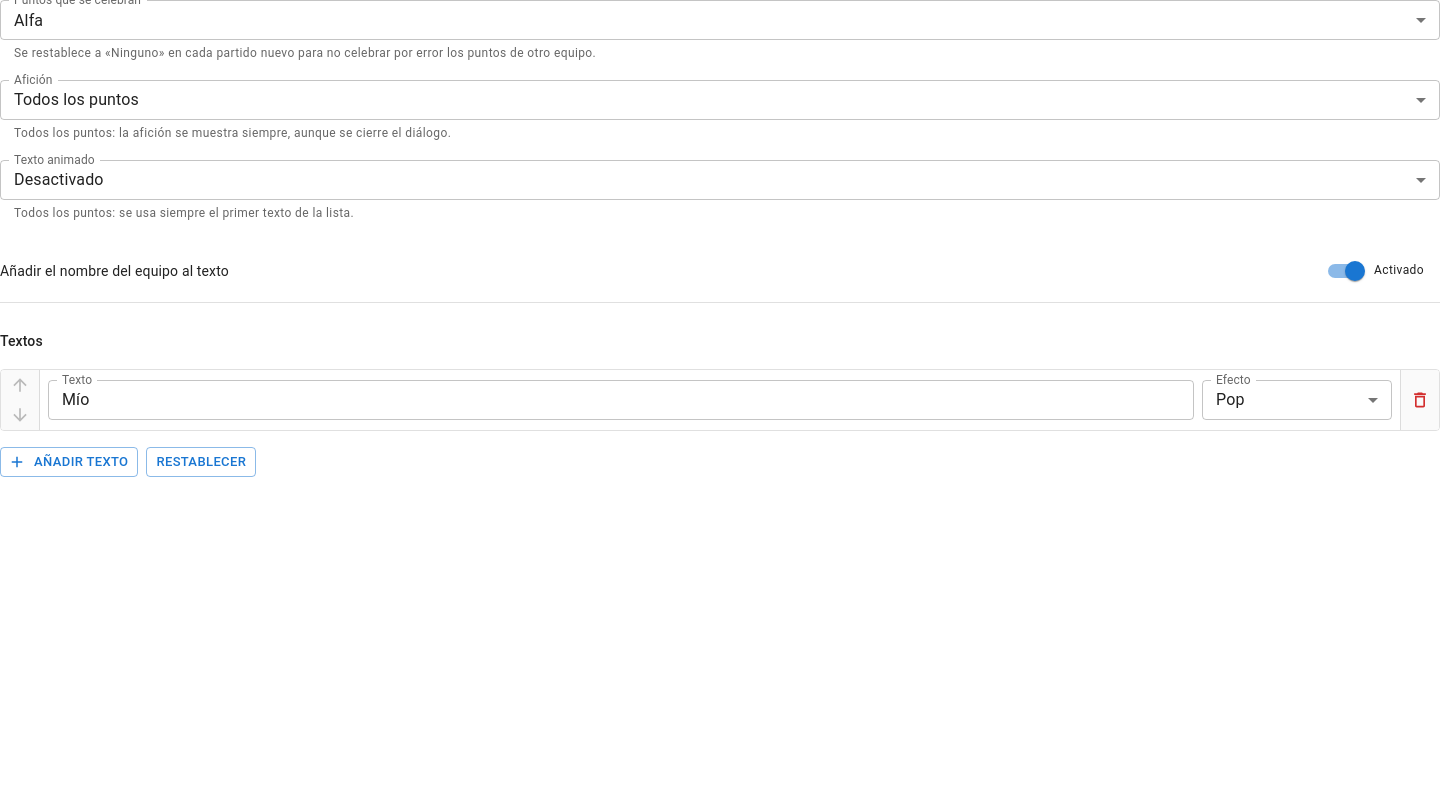
Scenario: EffectsSection › restoring the default texts › asks before discarding the current texts, and changes nothing yet
The width and height of the screenshot is (1440, 810).
Click the button "Restablecer" at (201,462), box [146,447,256,478]
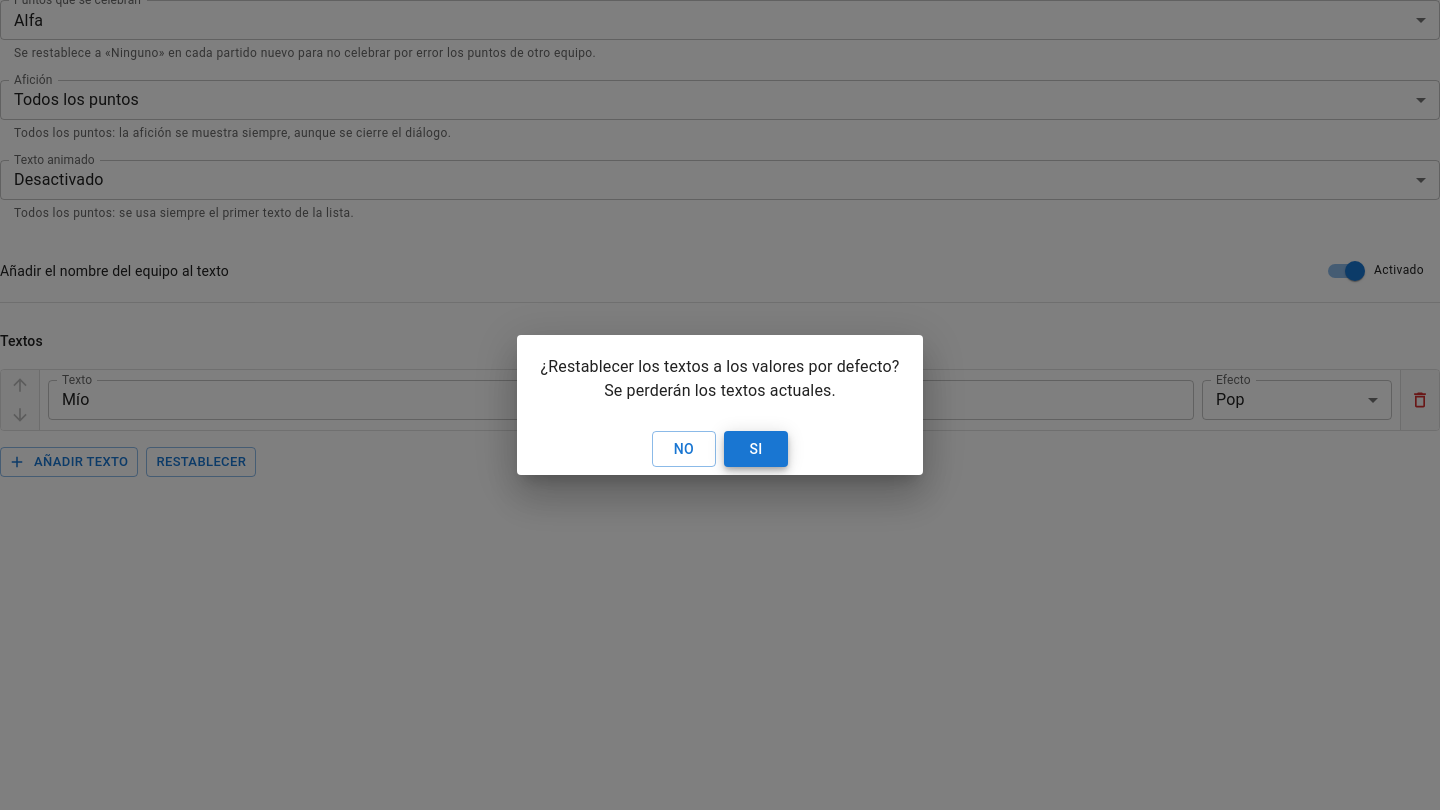
Expected: the text "¿Restablecer los textos a los valores por defecto?" is shown, [541,357,899,376]
